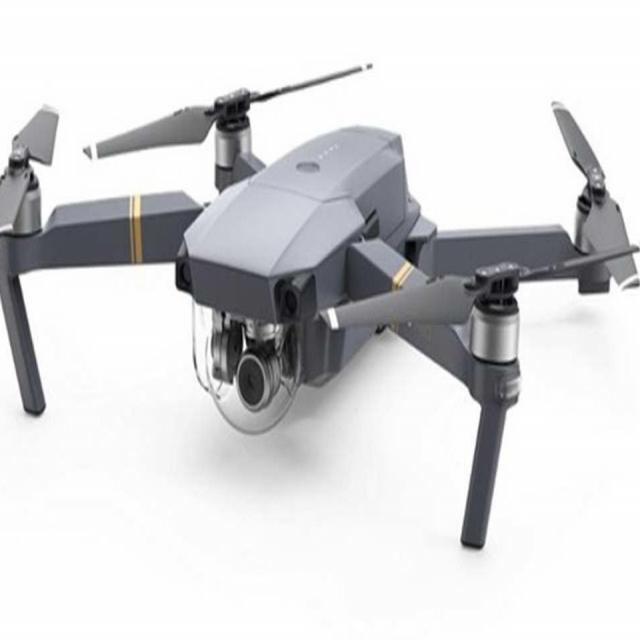drone: (0, 11, 640, 570)
